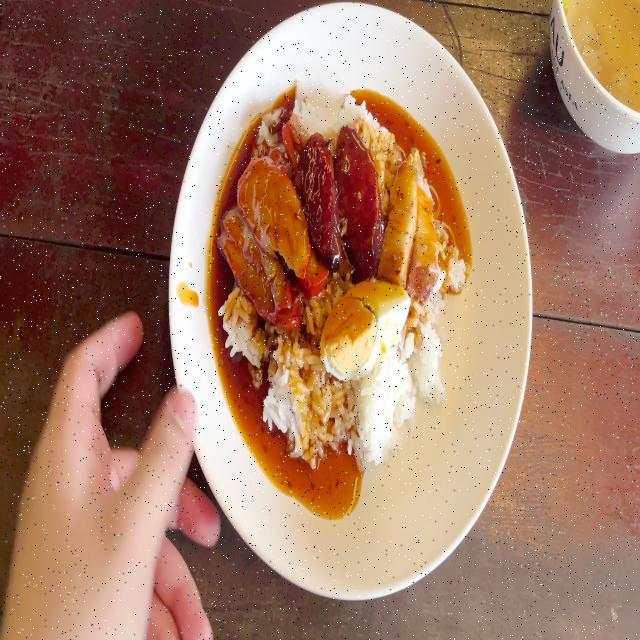boiled_egg: (323, 277, 410, 378)
chainese_sausage: (301, 131, 381, 261), (339, 142, 381, 262), (308, 136, 336, 262)
crispy_pork: (383, 152, 438, 293)
red_pork: (226, 158, 312, 315), (244, 153, 323, 280), (226, 215, 290, 318)
red_pork_and_crispy_pork: (225, 88, 462, 466)
rice: (361, 354, 420, 453), (268, 341, 327, 433), (213, 282, 266, 369), (413, 303, 438, 399)
